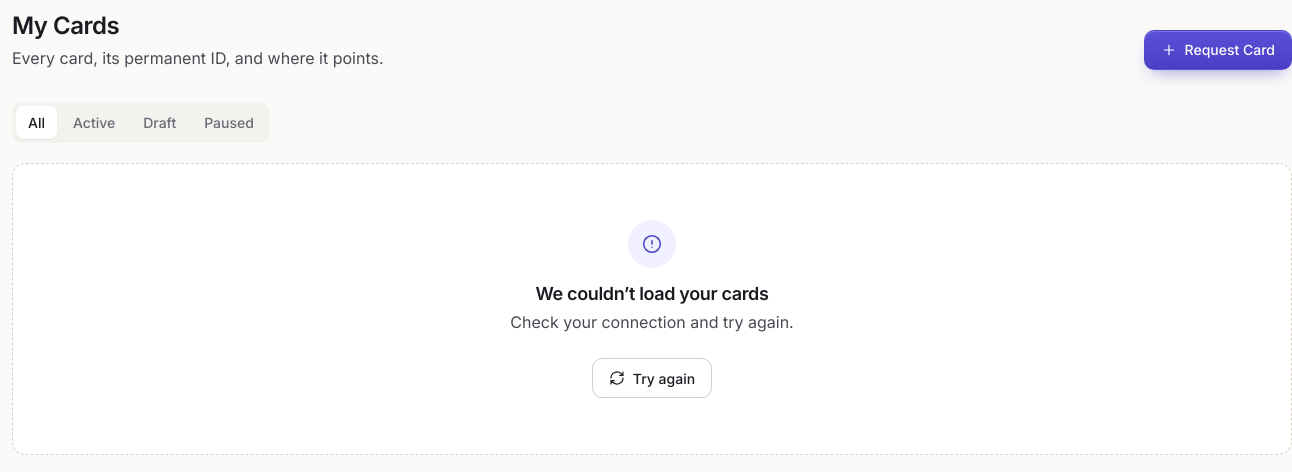
Test: My Cards › shows the error state with a retry when cards fail to load
Expected: the heading "We couldn’t load your cards" is shown, [536,284,768,304]
Click the button "Try again".
click(652, 378)  # box [592,358,712,398]
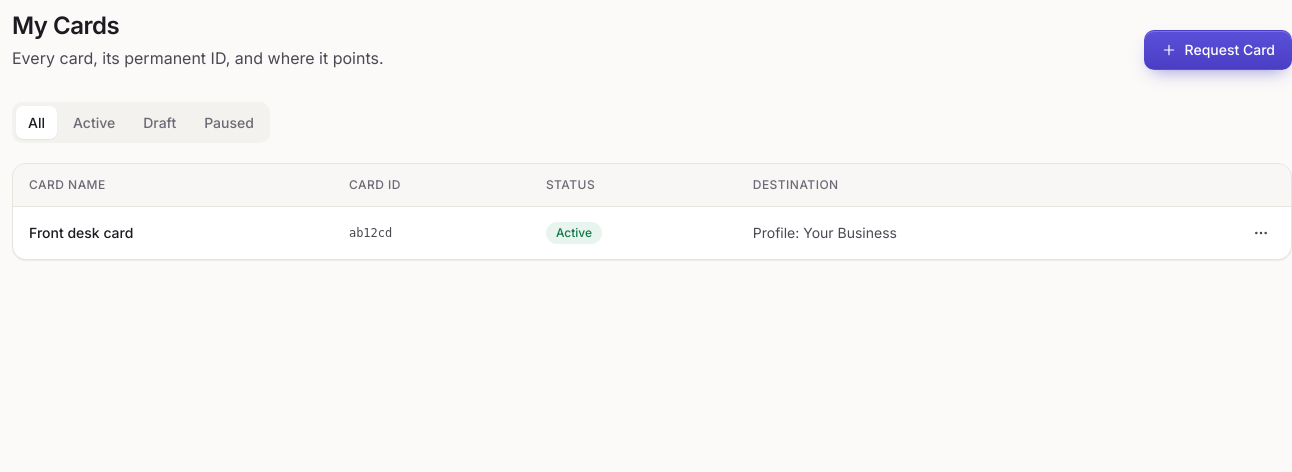
Expected: the text "Front desk card" is shown, [13,207,333,259]
